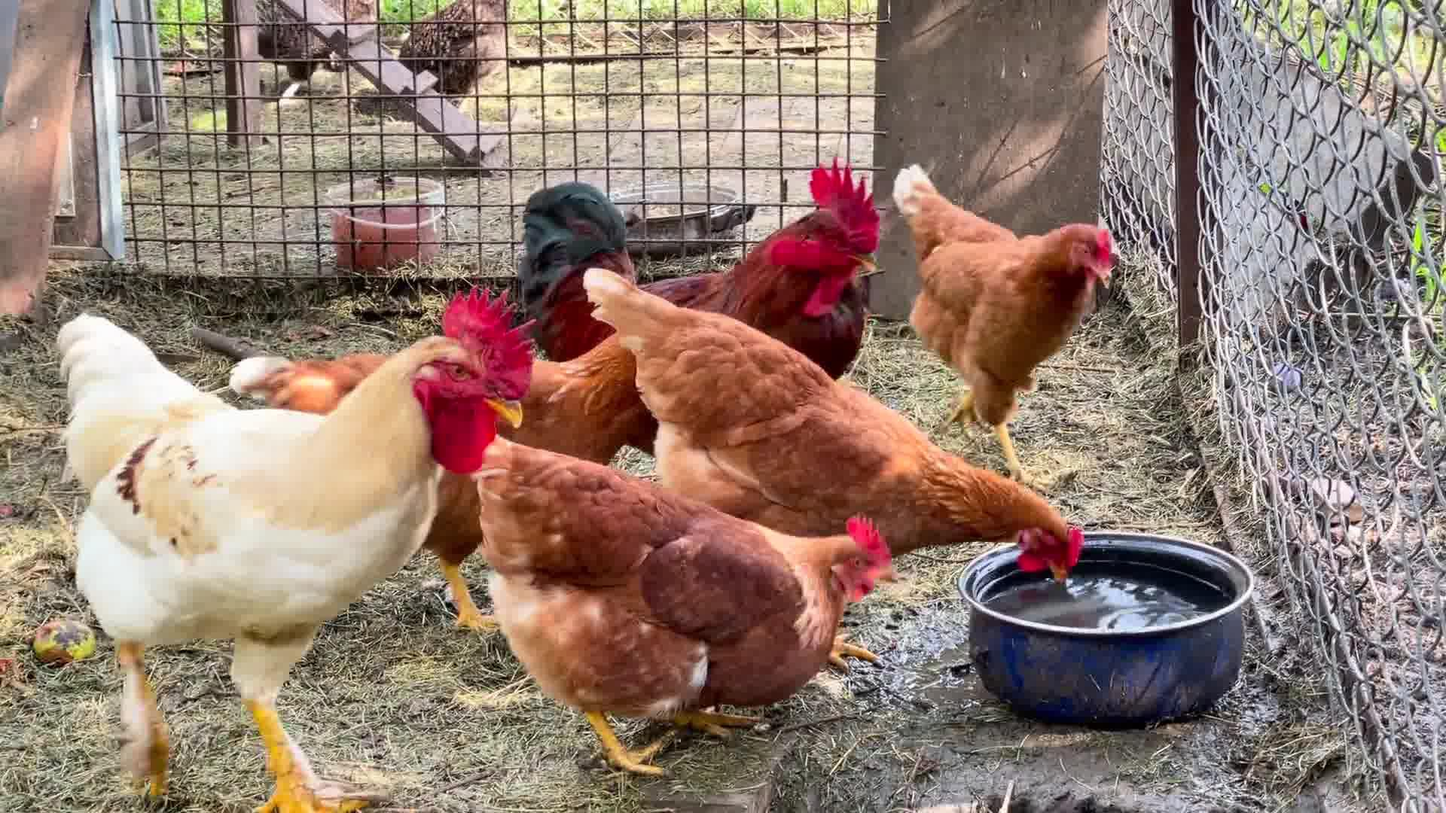Normal: (63, 283, 540, 813), (577, 268, 1087, 594), (488, 439, 885, 784), (264, 360, 692, 630), (533, 168, 896, 412), (900, 158, 1152, 481)
